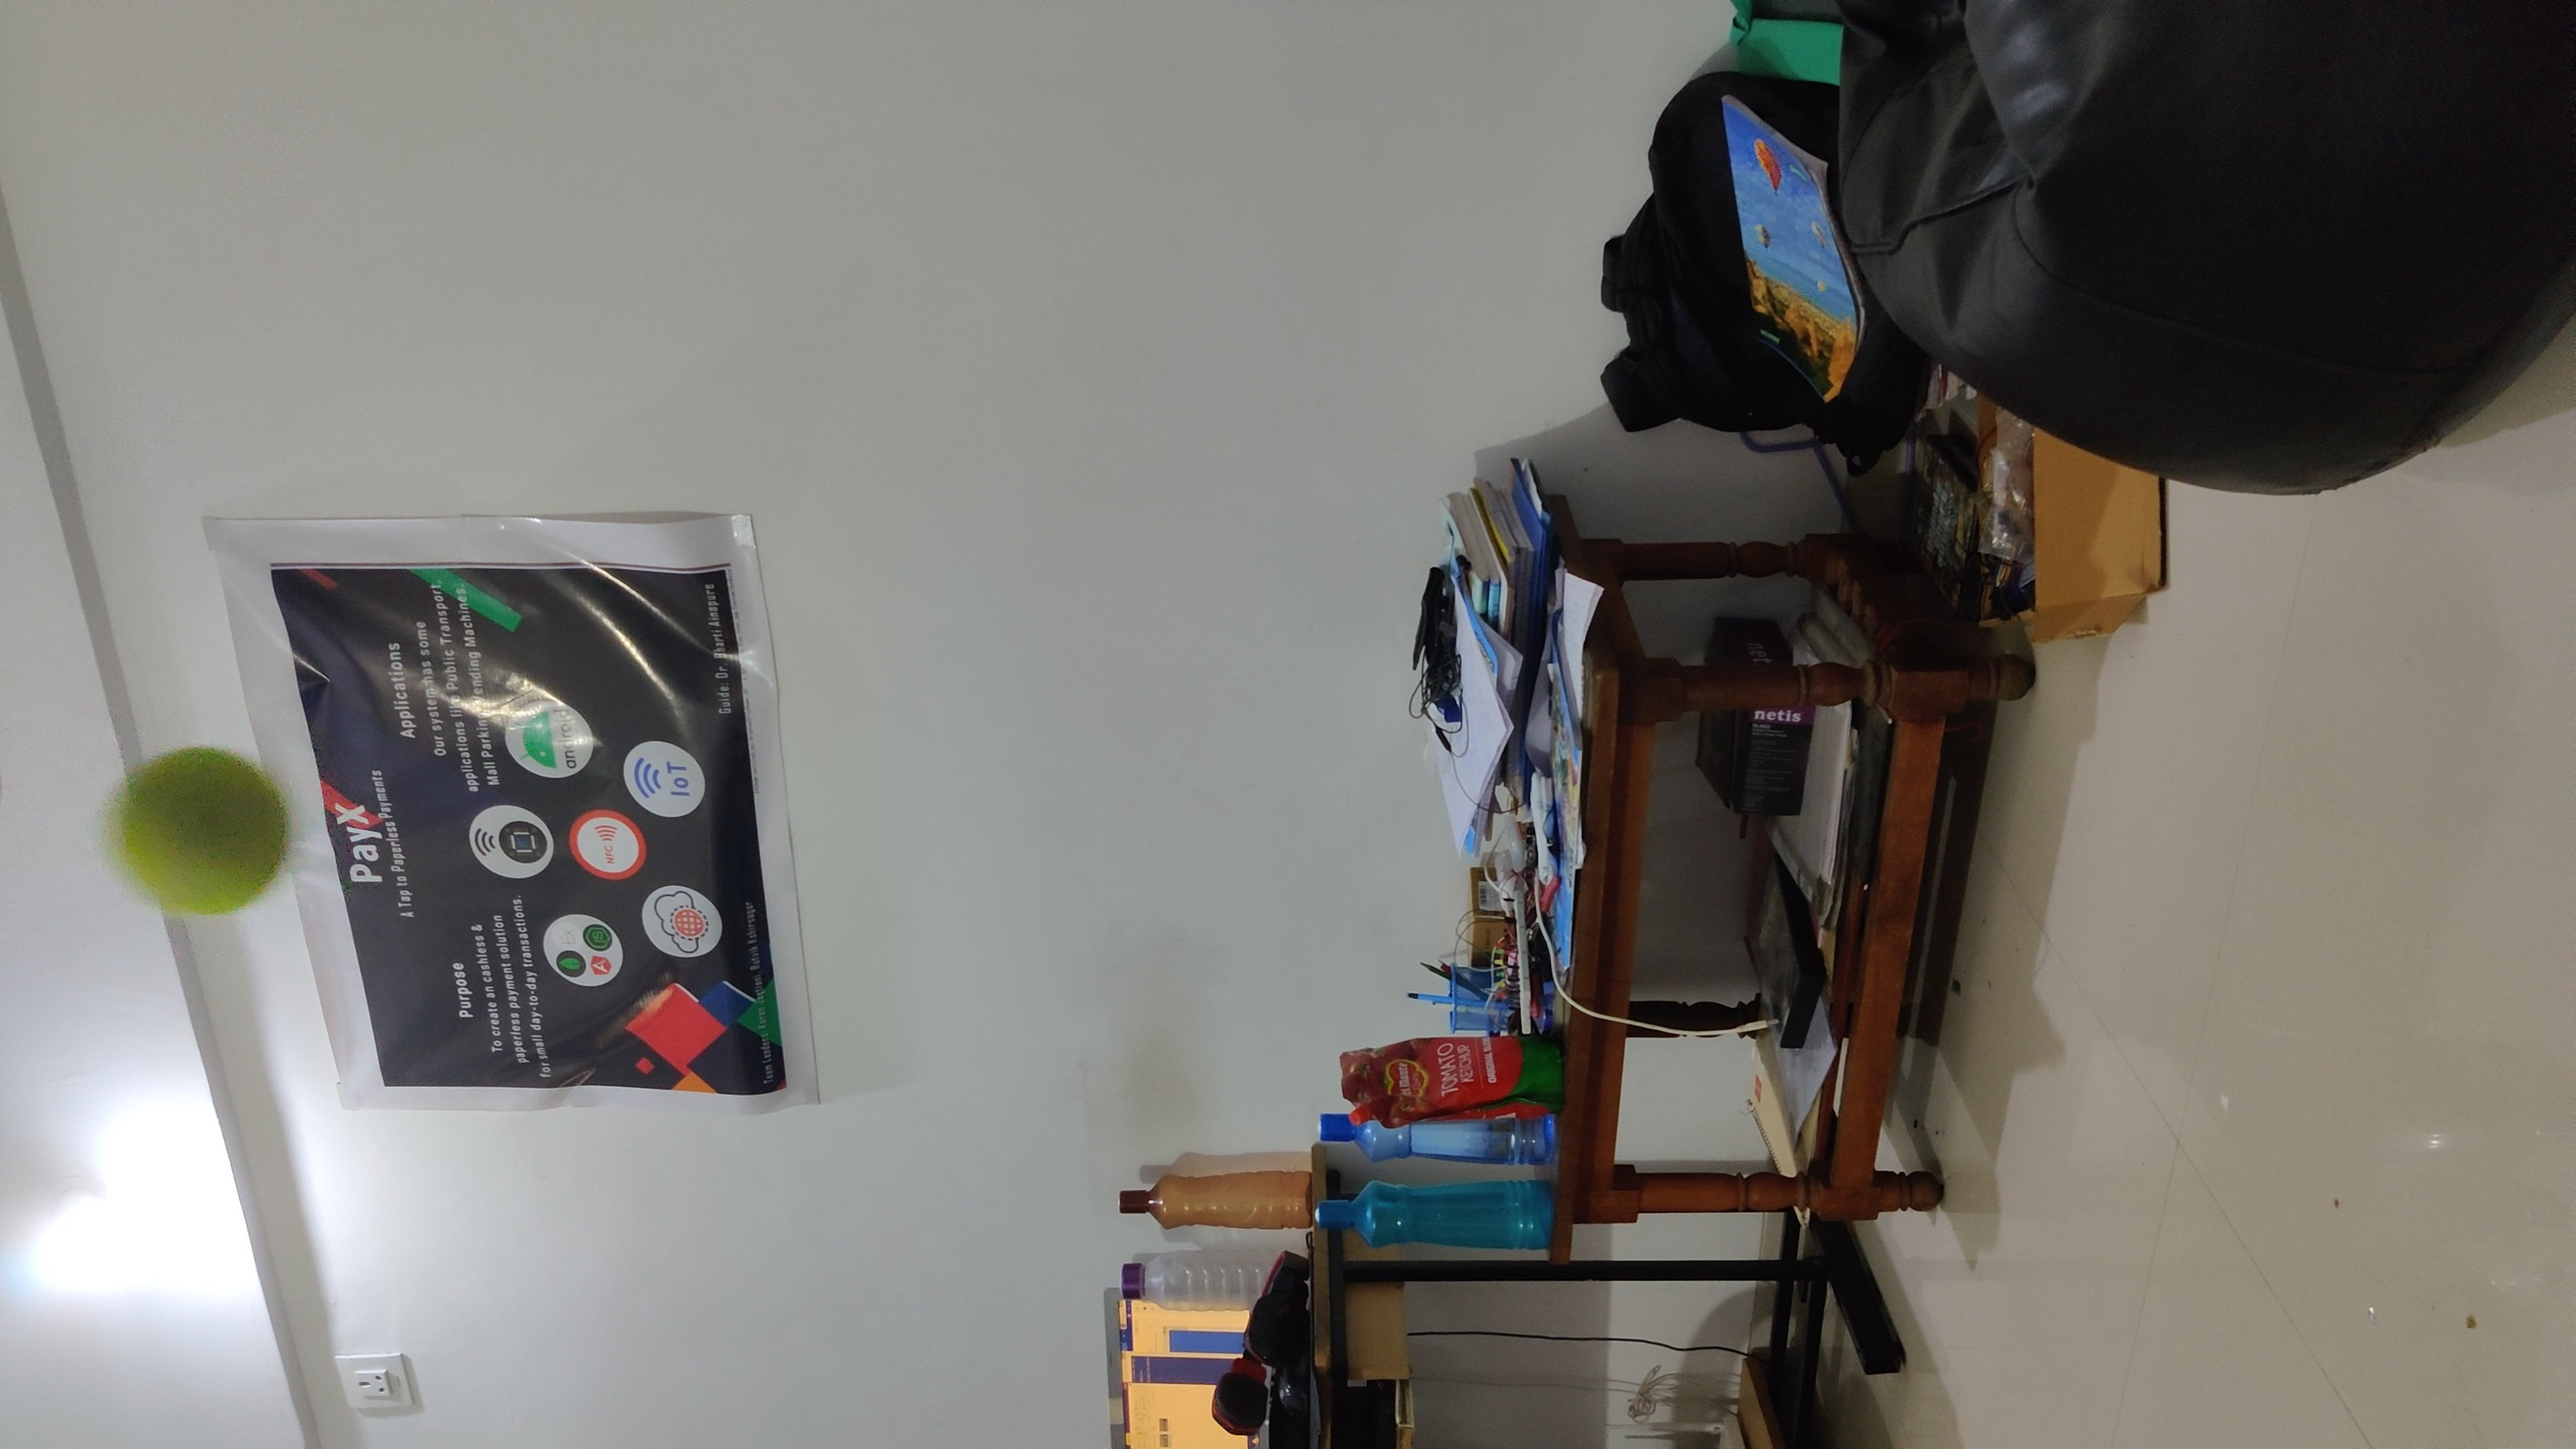Tennis-Ball: (97, 745, 292, 916)
